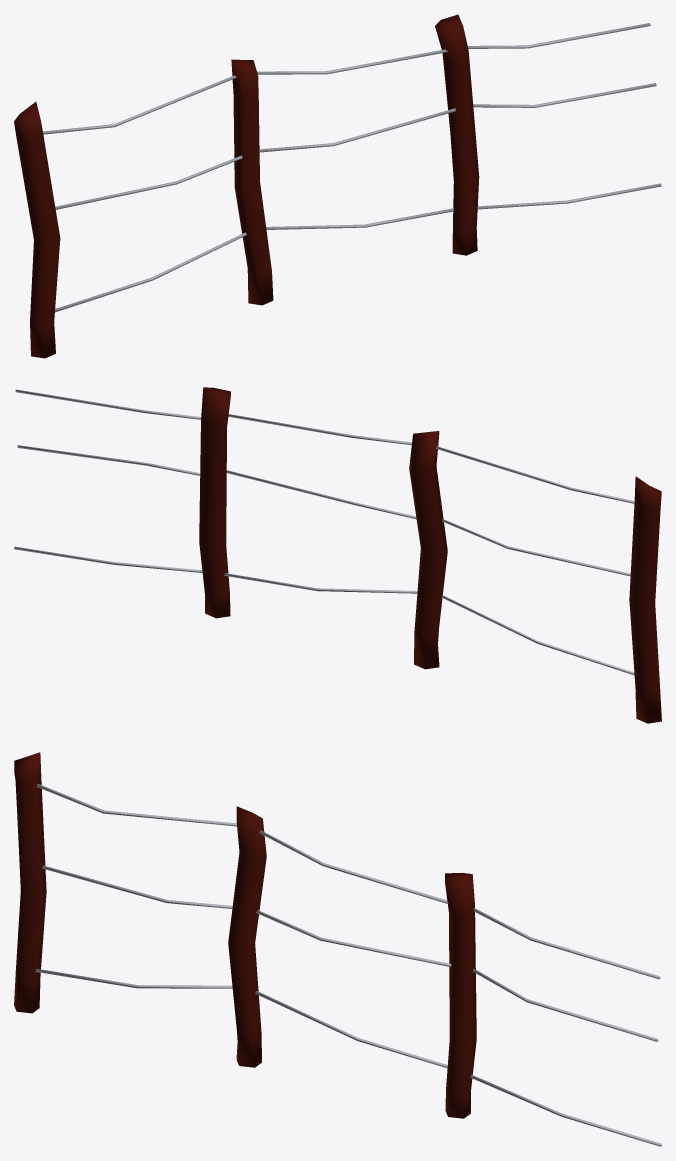
File: HWN20_WoodFence_02.glb
The picture shows the model from 3 angles, top to bottom: view 1: azimuth 30°, elevation 25°; view 2: azimuth 150°, elevation 25°; view 3: azimuth 330°, elevation 25°; orthographic projection. The views are drawn at different scales.
Visible parts, largest first — view 1: HWN20_WoodFence_02; view 2: HWN20_WoodFence_02; view 3: HWN20_WoodFence_02.
Part boxes in pixels (x1,y1,x2,y2): HWN20_WoodFence_02: (14, 14, 661, 358); HWN20_WoodFence_02: (14, 387, 661, 723); HWN20_WoodFence_02: (14, 752, 661, 1146).
Size of what is drawn, in the model's own units: 3.96 by 1.44 by 0.219.
Materials: 1 (1 with a texture image).
